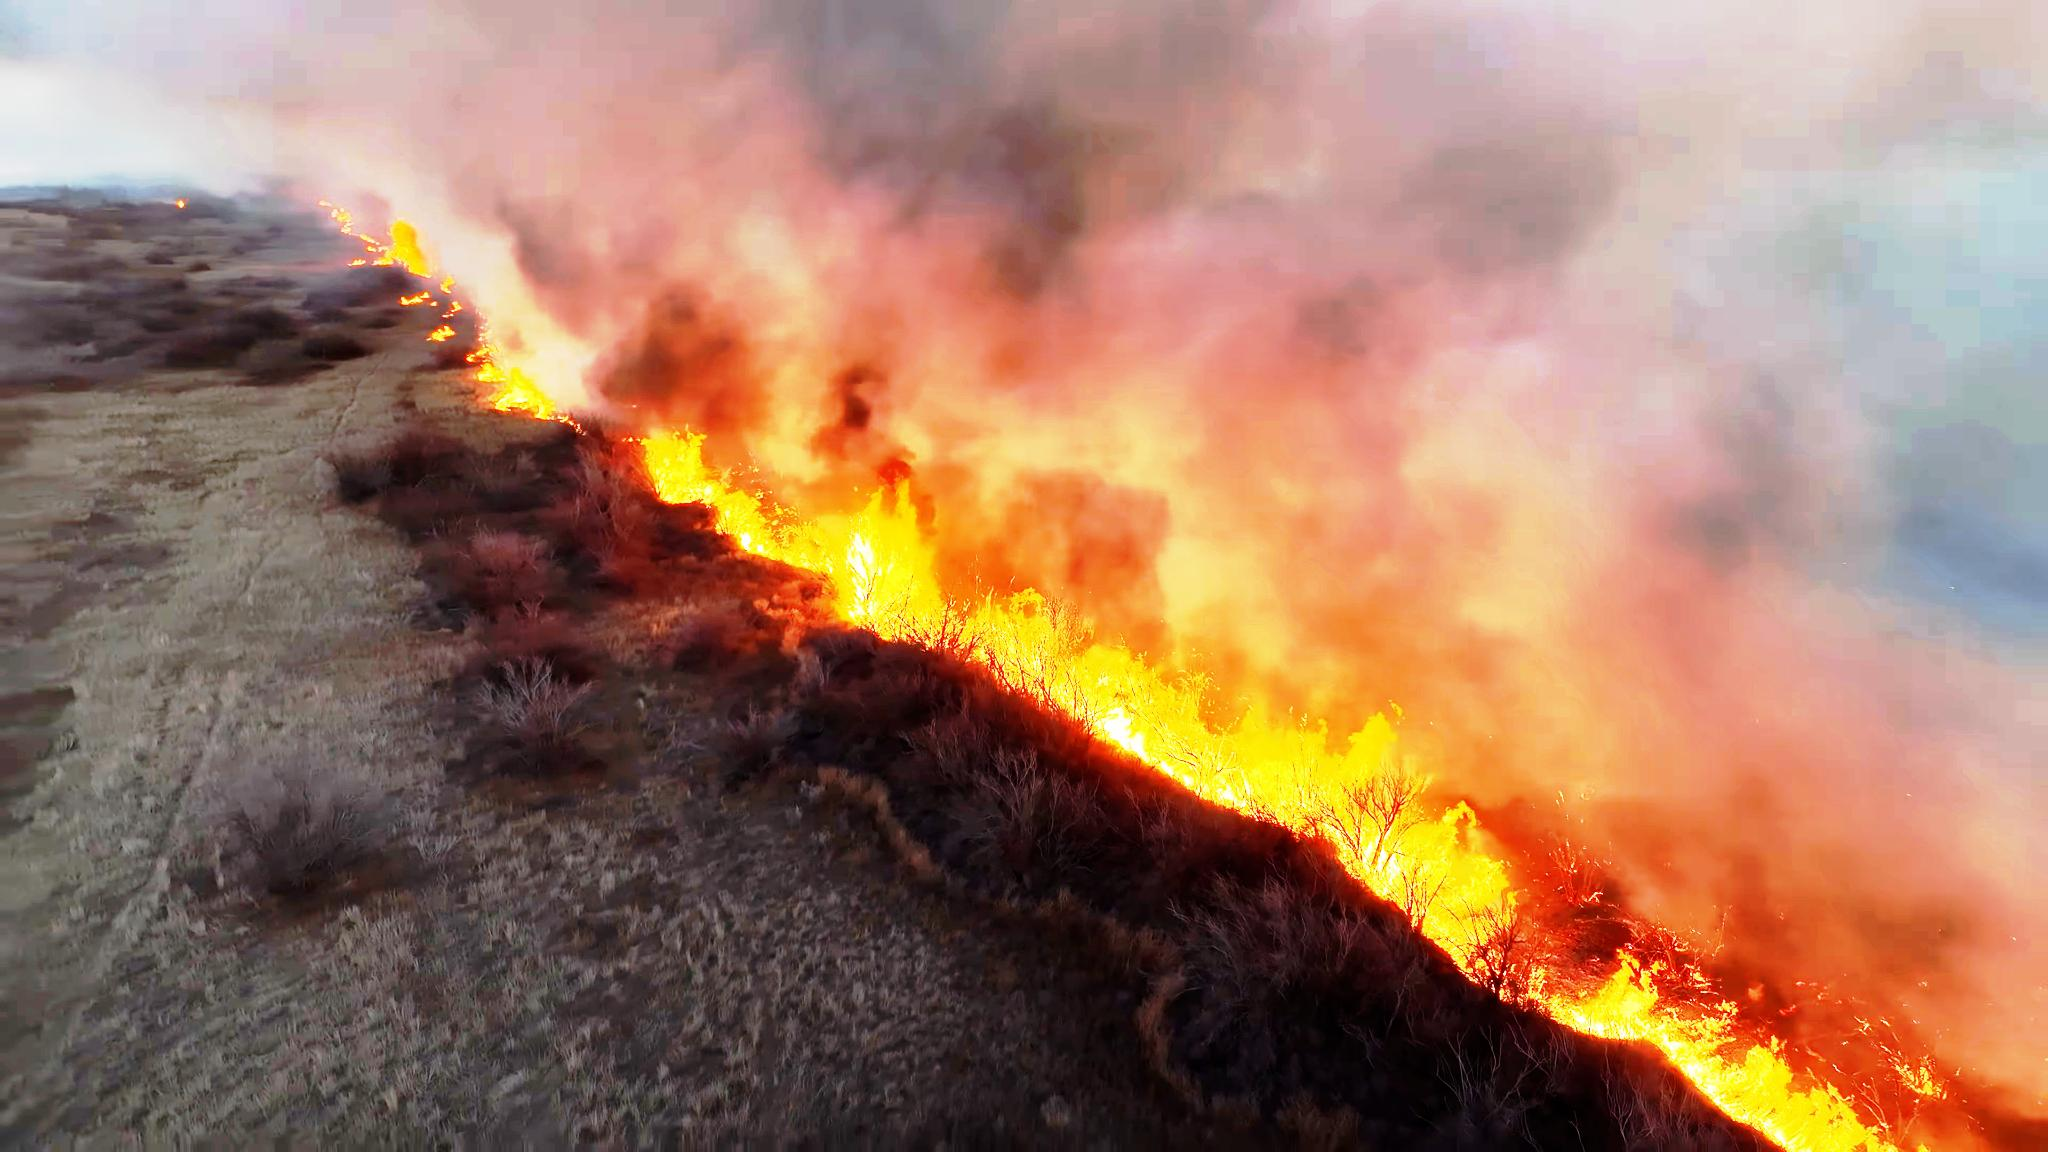fire: (1601, 999, 1875, 1152), (1101, 670, 1390, 796), (775, 461, 955, 634), (955, 568, 1169, 702), (1338, 785, 1515, 933), (660, 433, 762, 549)
smoke: (668, 0, 1308, 428), (1169, 136, 1699, 585)
